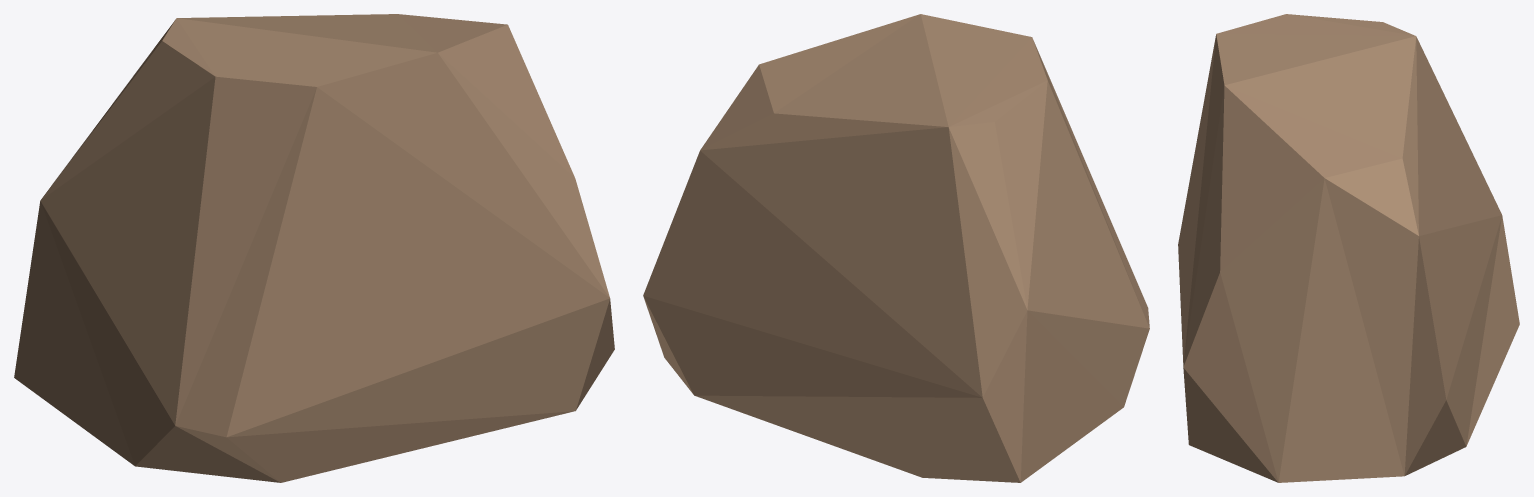
Rendered from TB_Env_Rock4_E.FBX.
3 renders of one model, left to right at view 1: azimuth 30°, elevation 25°; view 2: azimuth 150°, elevation 25°; view 3: azimuth 270°, elevation 25°, orthographic. The views are drawn at different scales.
Parts seen in each view (by area): view 1: TB_Env_Rock4_E; view 2: TB_Env_Rock4_E; view 3: TB_Env_Rock4_E.
Part boxes in pixels (left/top/right/bottom): TB_Env_Rock4_E: left=14, top=14, right=614, bottom=482; TB_Env_Rock4_E: left=643, top=14, right=1149, bottom=482; TB_Env_Rock4_E: left=1178, top=14, right=1519, bottom=482.
Size of the model in its own units: 1.52 by 1.13 by 1.12.
